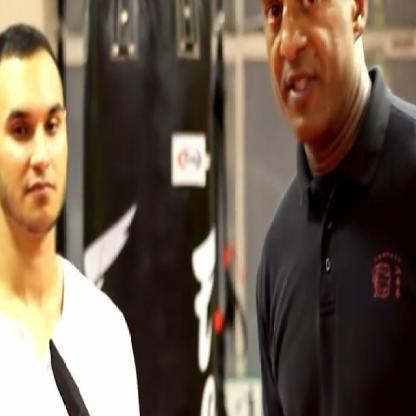knife: (45, 329, 160, 415)
